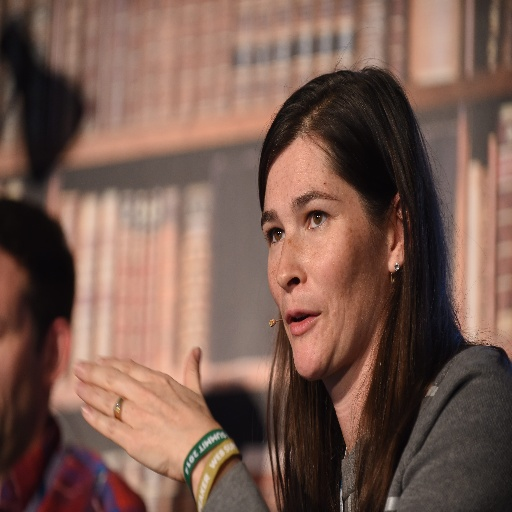hand: (72, 357, 243, 499)
